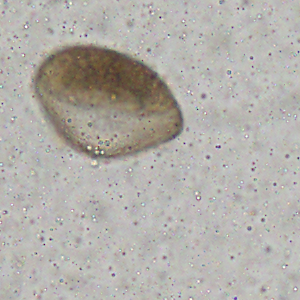Fasciola_hepatica_egg: (33, 42, 185, 158)
